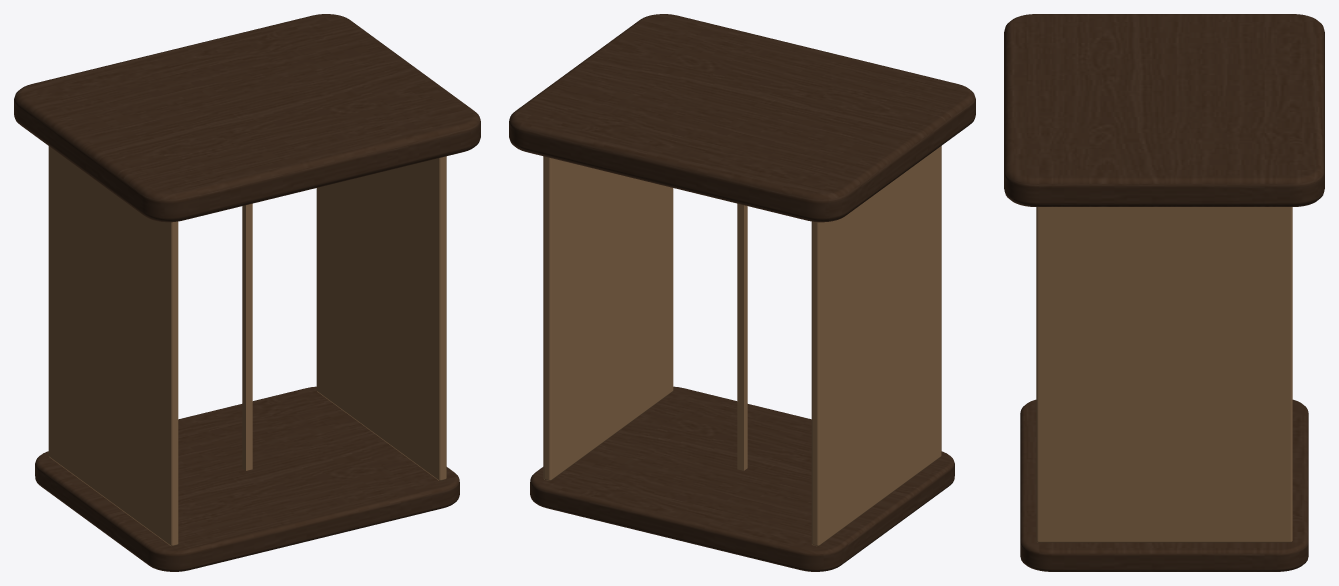
The model's file is nepal-side-stool.glb.
3 views of the same model, side by side, from view 1: azimuth 30°, elevation 25°; view 2: azimuth 150°, elevation 25°; view 3: azimuth 270°, elevation 25° (orthographic). The views are drawn at different scales.
Parts seen in each view (by area): view 1: top, plate-1, foot, plate1, rod; view 2: top, plate-1, foot, plate1, rod; view 3: plate1, top, foot.
Boxes of the visible parts, x1,y1,x2,y2 form: top: (14,14,480,222); plate-1: (48,146,178,546); foot: (35,386,459,571); plate1: (316,156,446,480); rod: (242,203,252,470); top: (509,14,975,222); plate-1: (811,146,941,546); foot: (530,386,954,571); plate1: (543,156,673,480); rod: (737,203,747,470); plate1: (1036,207,1292,542); top: (1004,14,1324,206); foot: (1020,399,1308,571).
Bounding box in the file's own units: 0.5 × 0.55 × 0.4.
Materials: 2 (1 with a texture image).
